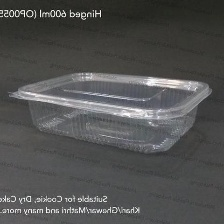plastic_box: (1, 61, 218, 160)
